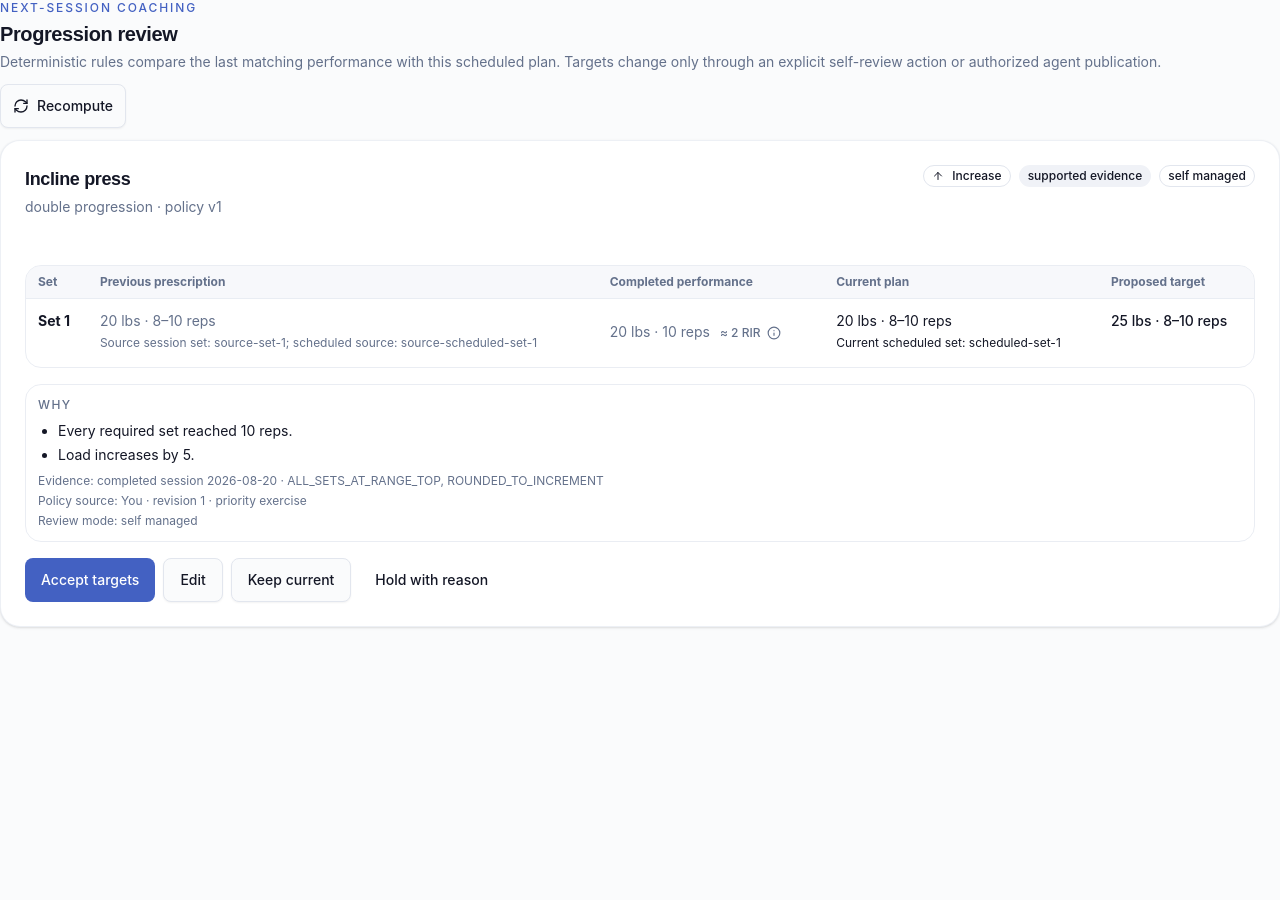
Test: preserves raw progression evidence, policy, and fingerprint while exposing derived effort
Click the button with aria-label "Effort details: Completed set 1" at {"x": 750, "y": 333}, box x1=710 y1=311 x2=790 y2=355
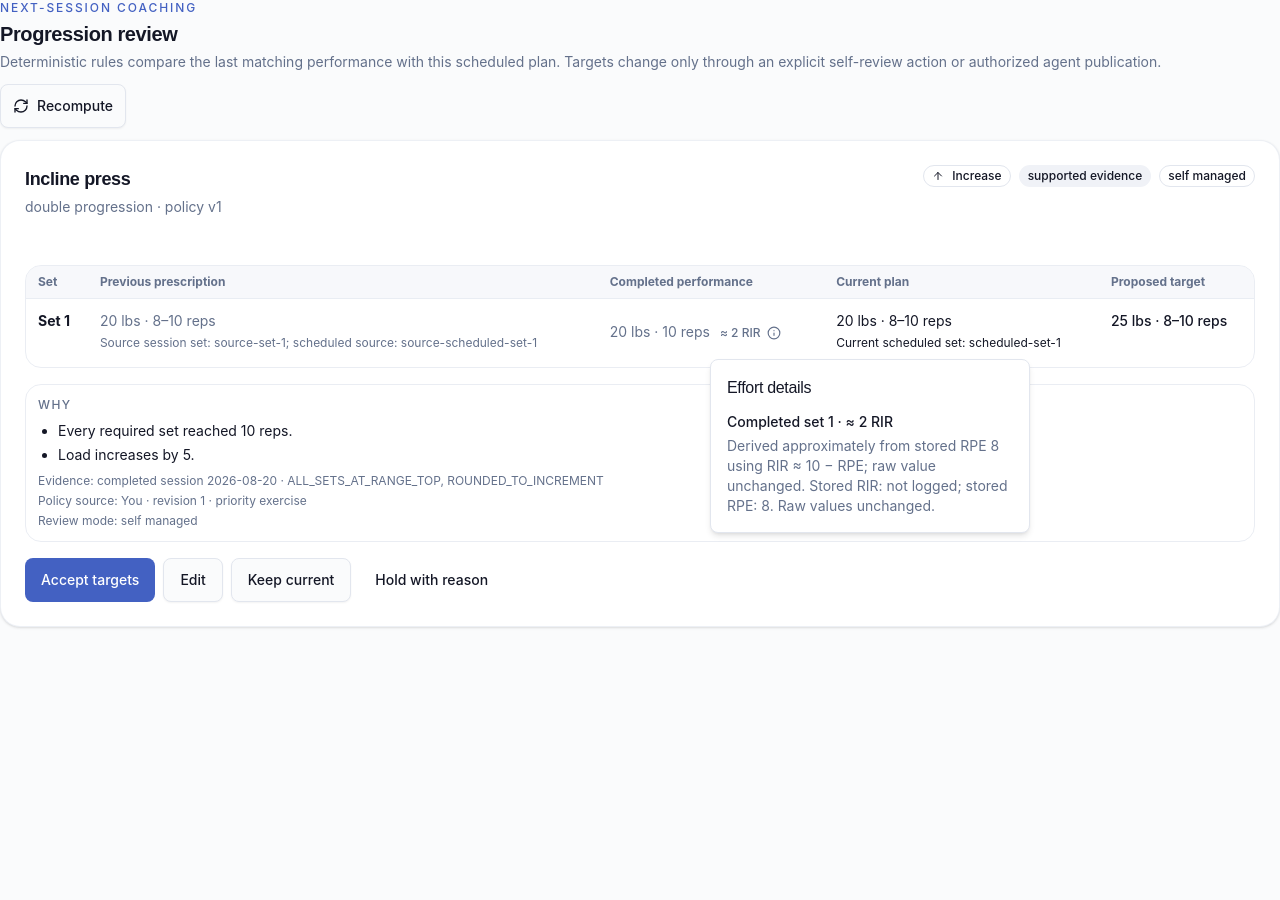
Check: the dialog "Effort details" shows "Derived approximately from stored RPE 8", box x1=727 y1=437 x2=1008 y2=514
